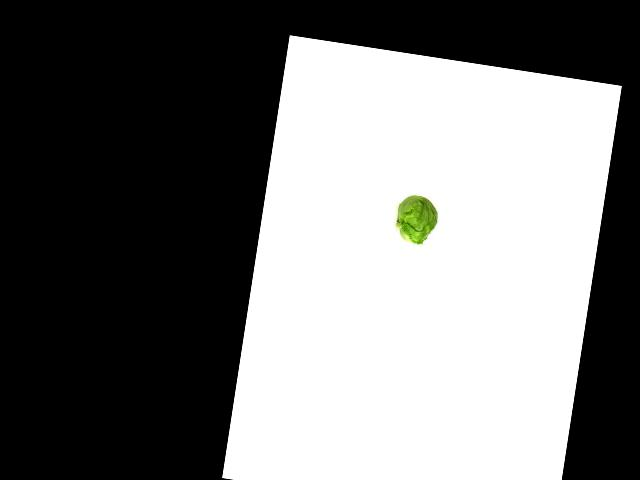lettuce: (392, 188, 445, 252)
